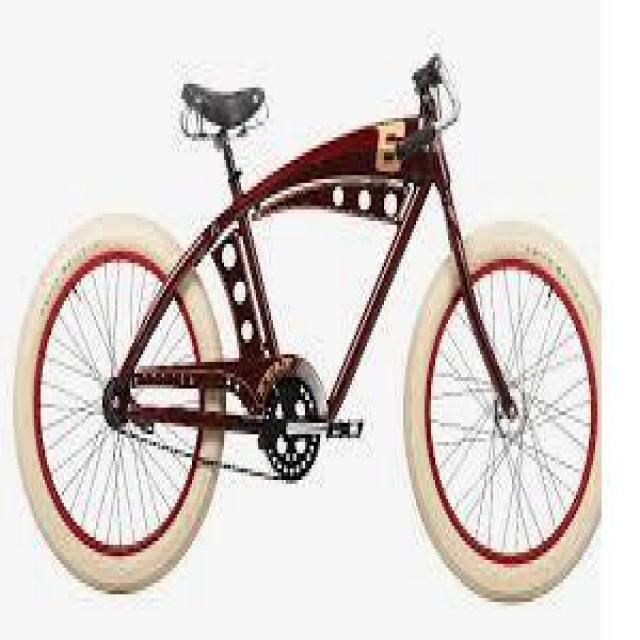bicycle: (12, 51, 605, 619)
